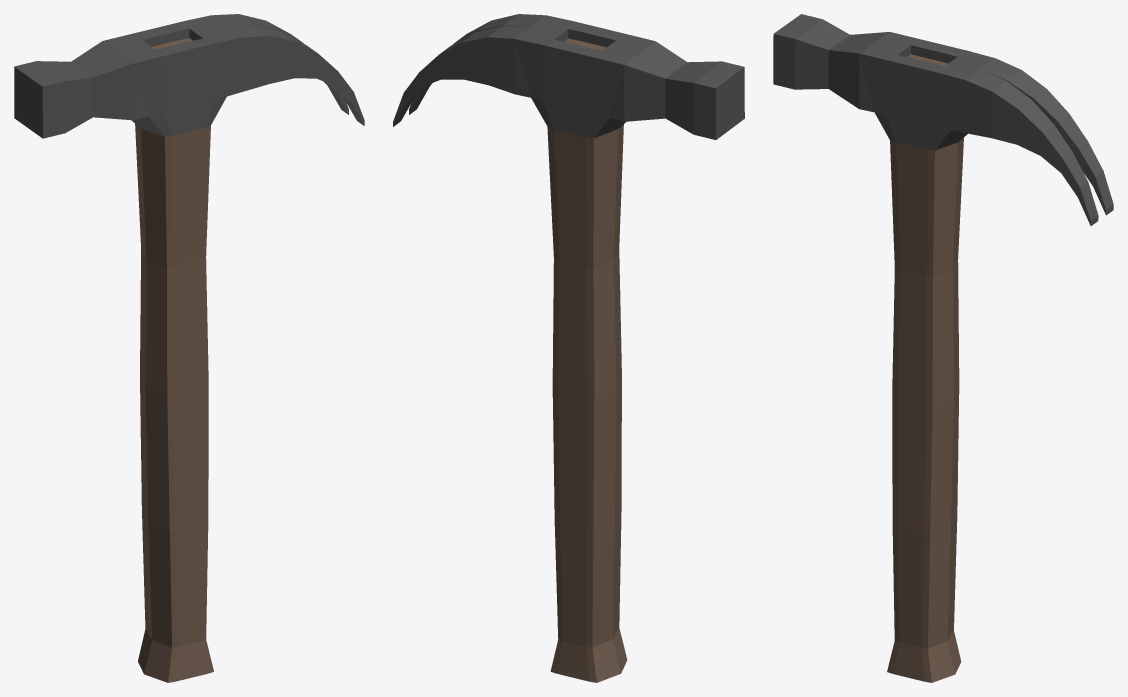
Rendered from vaja1.gltf.
The picture shows the model from 3 angles, left to right: view 1: azimuth 30°, elevation 25°; view 2: azimuth 150°, elevation 25°; view 3: azimuth 330°, elevation 25°; orthographic projection. The views are drawn at different scales.
Visible parts, largest first — view 1: Cube, Cube_1; view 2: Cube, Cube_1; view 3: Cube, Cube_1.
Boxes of the visible parts, <box> form: Cube: <box>135,38,213,682</box>; Cube_1: <box>14,14,364,138</box>; Cube: <box>547,38,627,682</box>; Cube_1: <box>393,14,744,139</box>; Cube: <box>887,54,963,682</box>; Cube_1: <box>773,14,1113,225</box>.
Bounding box in the file's own units: 0.2199 × 0.4057 × 0.0411.
